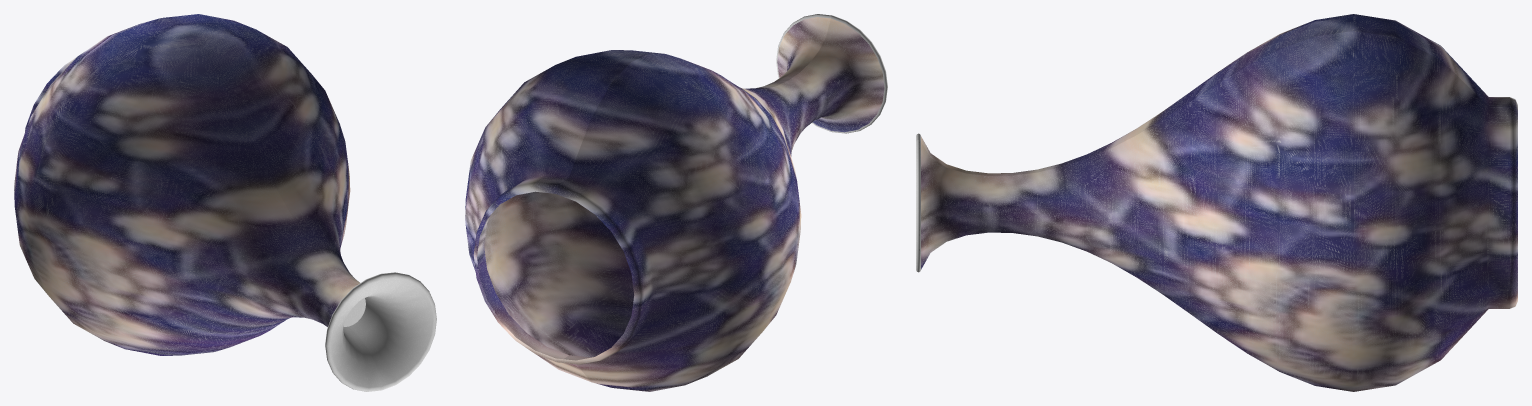
The model's file is model_align.obj.
3 renders of one model, left to right at view 1: azimuth 30°, elevation 25°; view 2: azimuth 150°, elevation 25°; view 3: azimuth 270°, elevation 25°, orthographic. The views are drawn at different scales.
Parts seen in each view (by area): view 1: mesh2_mesh2-geometry, mesh1_mesh1-geometry; view 2: mesh2_mesh2-geometry, mesh1_mesh1-geometry; view 3: mesh1_mesh1-geometry, mesh2_mesh2-geometry.
Part boxes in pixels (left/top/right/bottom): mesh2_mesh2-geometry: left=14, top=18, right=382, bottom=391; mesh1_mesh1-geometry: left=161, top=14, right=436, bottom=390; mesh2_mesh2-geometry: left=555, top=15, right=887, bottom=391; mesh1_mesh1-geometry: left=465, top=14, right=831, bottom=381; mesh1_mesh1-geometry: left=916, top=31, right=1517, bottom=391; mesh2_mesh2-geometry: left=916, top=14, right=1517, bottom=175.
Bounding box in the file's own units: 0.0697 × 0.0697 × 0.1106.
